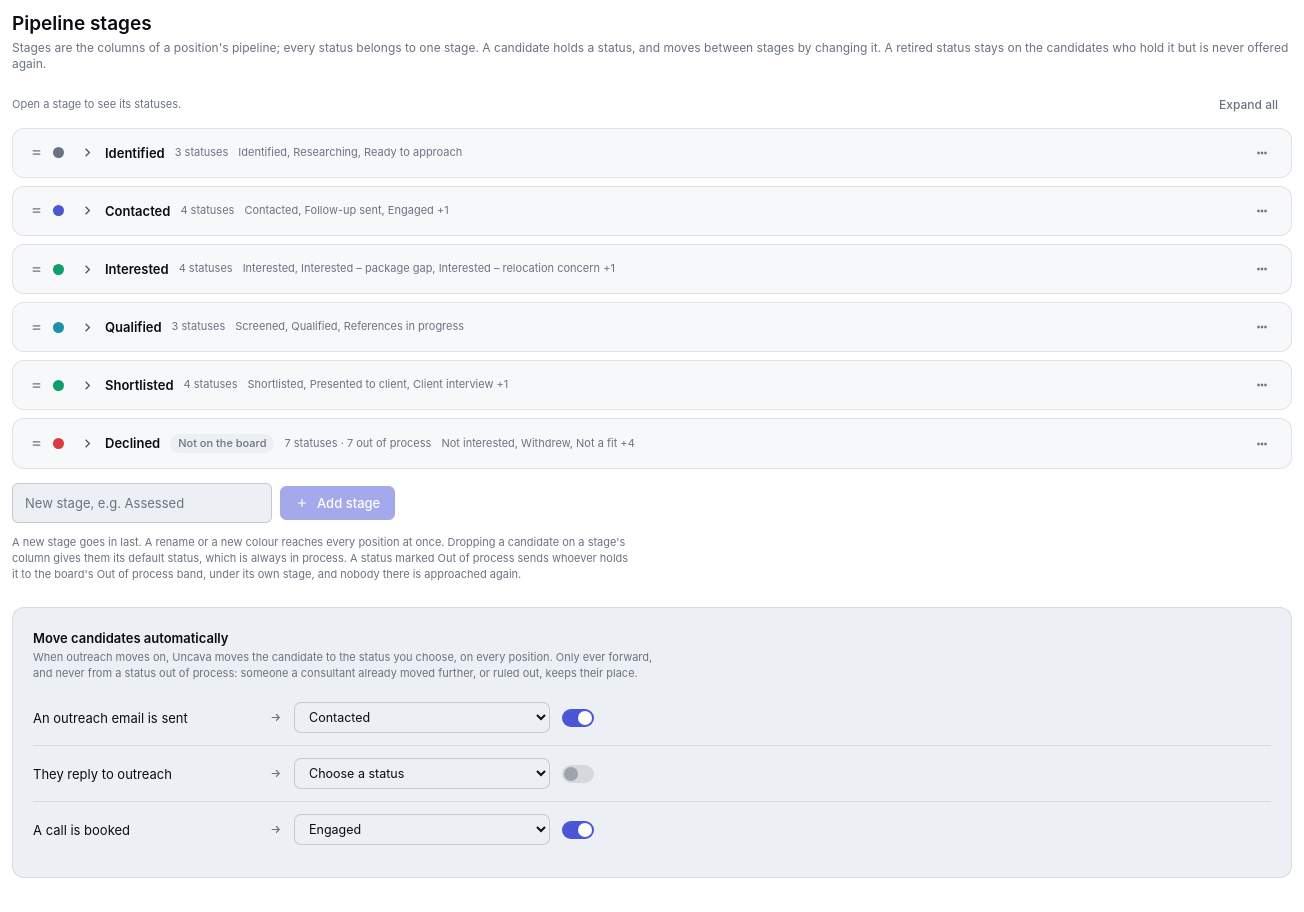
PipelineStagesPage › adds a stage and draws the catalog the server answers
Expected: the element "Identified" is shown, 12,128 -> 1292,178
Type "Assessed" into the field labelled "New stage" at (142, 503), box 12,483 -> 272,523
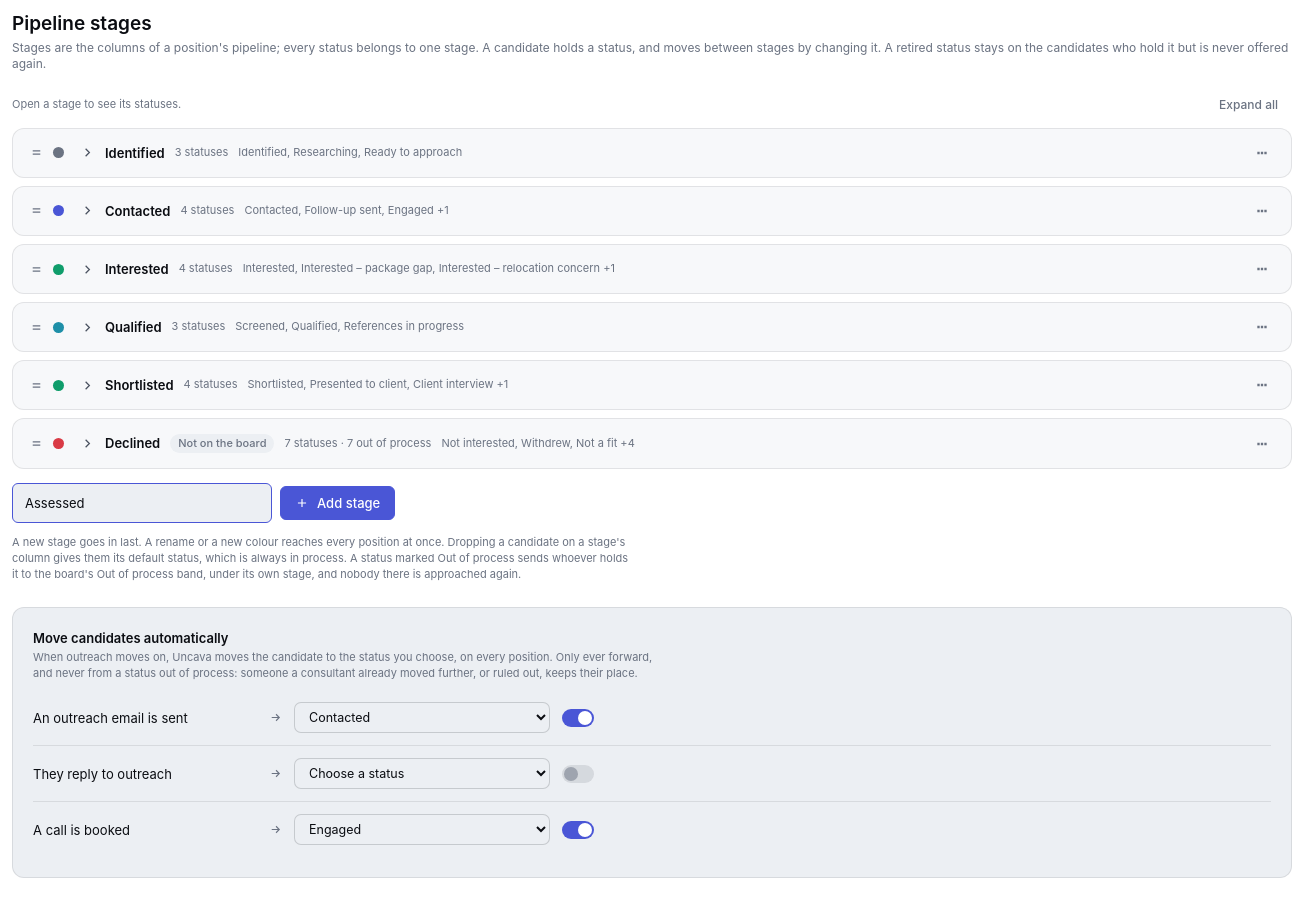
Click the button "Add stage" at (338, 503), box 280,486 -> 395,520
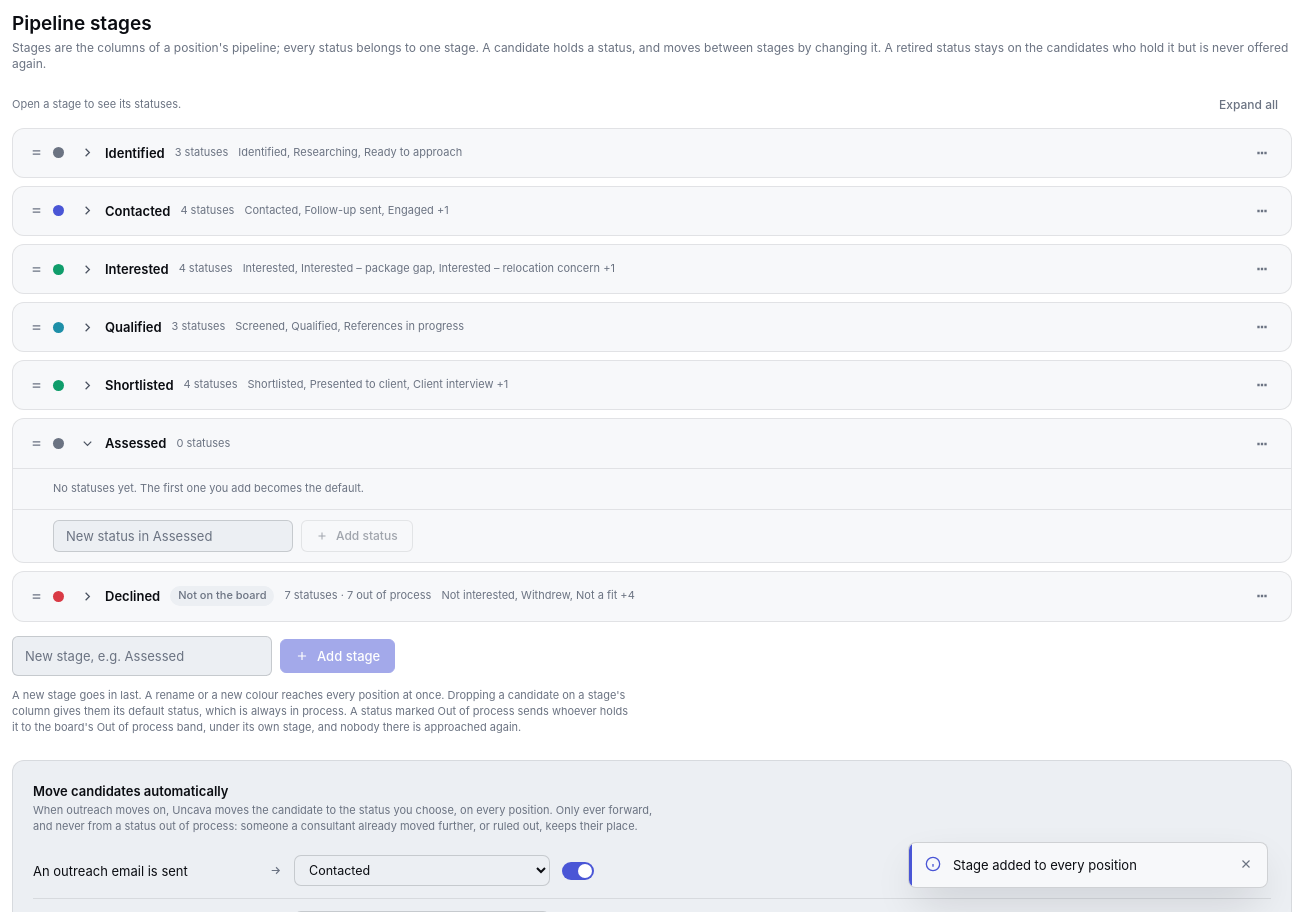
Now the element "Assessed" is shown, box 12,418 -> 1292,563
Now the text "Stage added to every position" is shown, box 953,857 -> 1137,873
